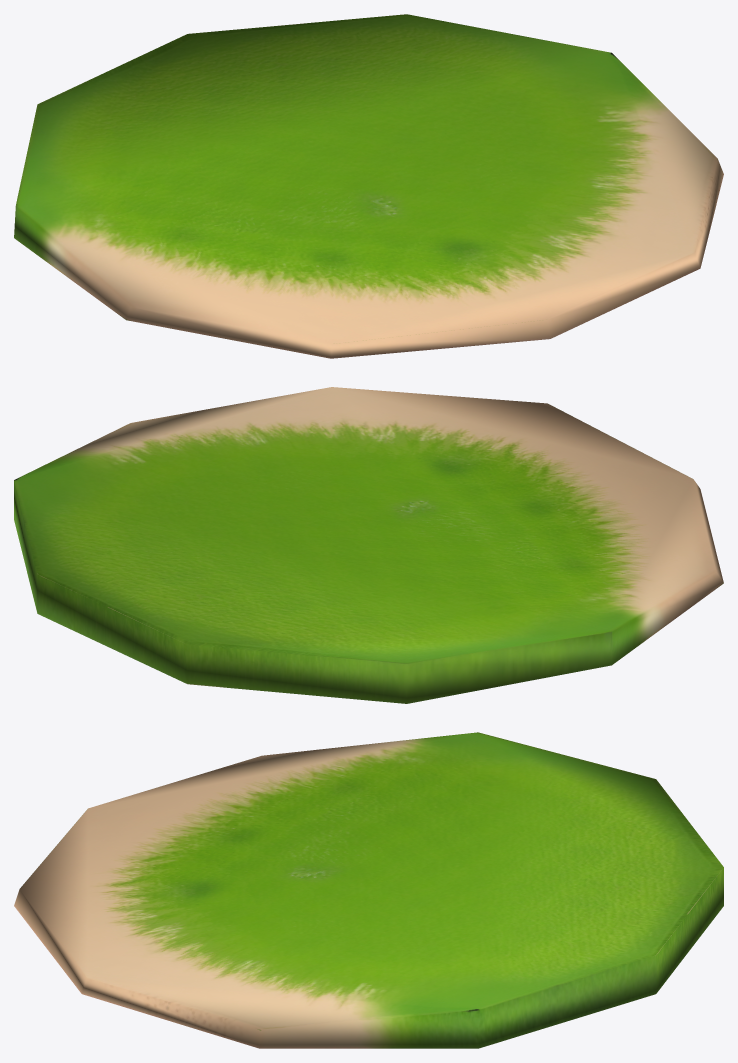
The picture shows the model from 3 angles, top to bottom: view 1: azimuth 30°, elevation 25°; view 2: azimuth 150°, elevation 25°; view 3: azimuth 270°, elevation 25°; orthographic projection. The views are drawn at different scales.
Size of the model in its own units: 1.9 by 0.12 by 2.
1 material, 1 textured.
